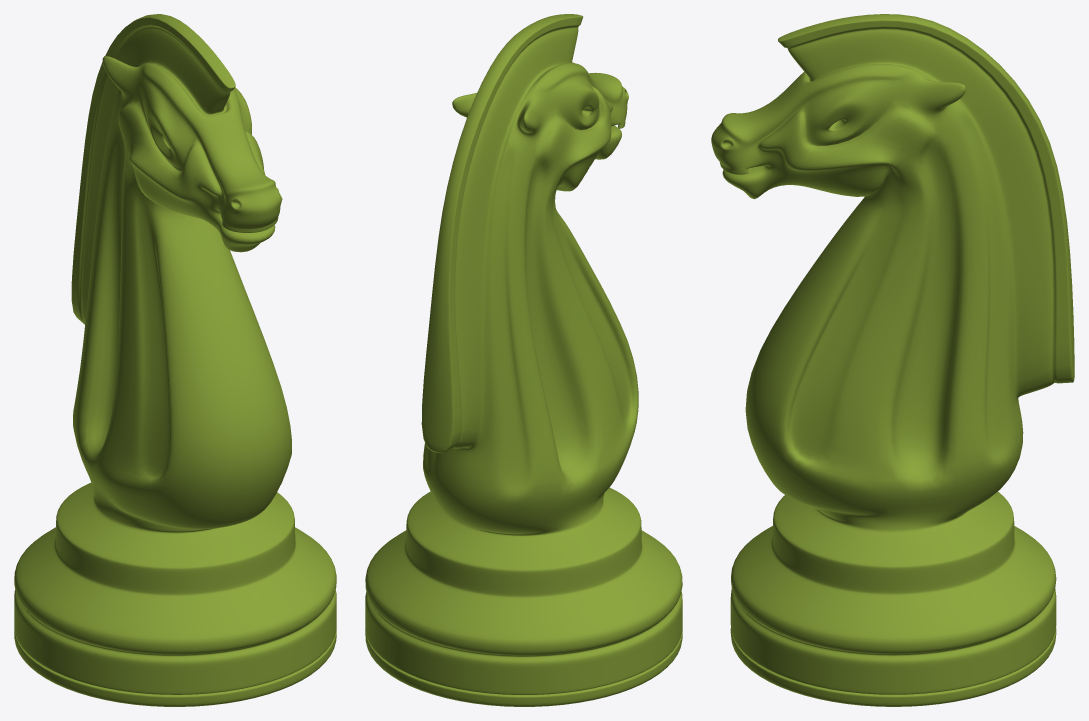
Rendered from Black Horse Chess.fbx.
The picture shows the model from 3 angles, left to right: view 1: azimuth 30°, elevation 25°; view 2: azimuth 150°, elevation 25°; view 3: azimuth 270°, elevation 25°; orthographic projection. The views are drawn at different scales.
Visible parts, largest first — view 1: Caballo002; view 2: Caballo002; view 3: Caballo002.
Boxes of the visible parts, x1,y1,x2,y2 form: Caballo002: (14,14,336,706); Caballo002: (365,14,682,706); Caballo002: (711,14,1074,706).
Bounding box in the file's own units: 4.28 × 4.78 × 9.07.
